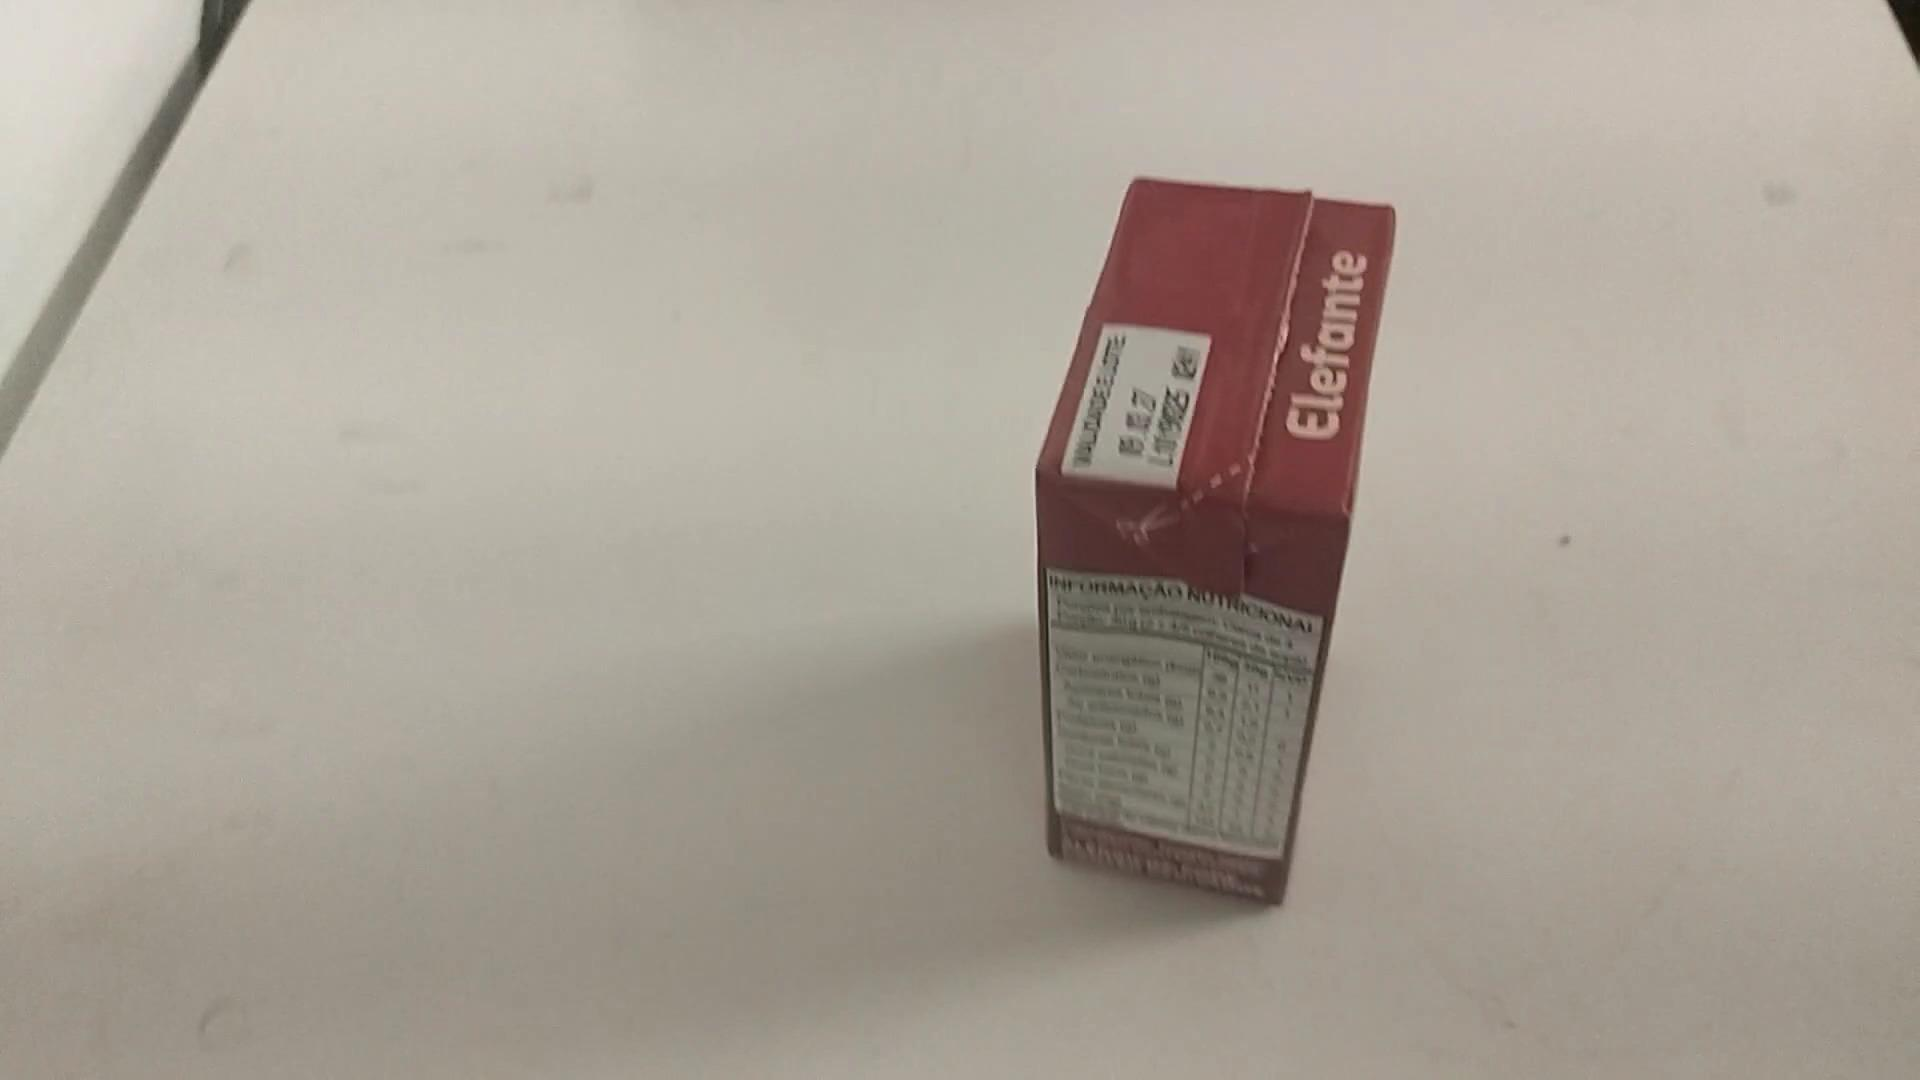tomate: (1009, 154, 1399, 913)
